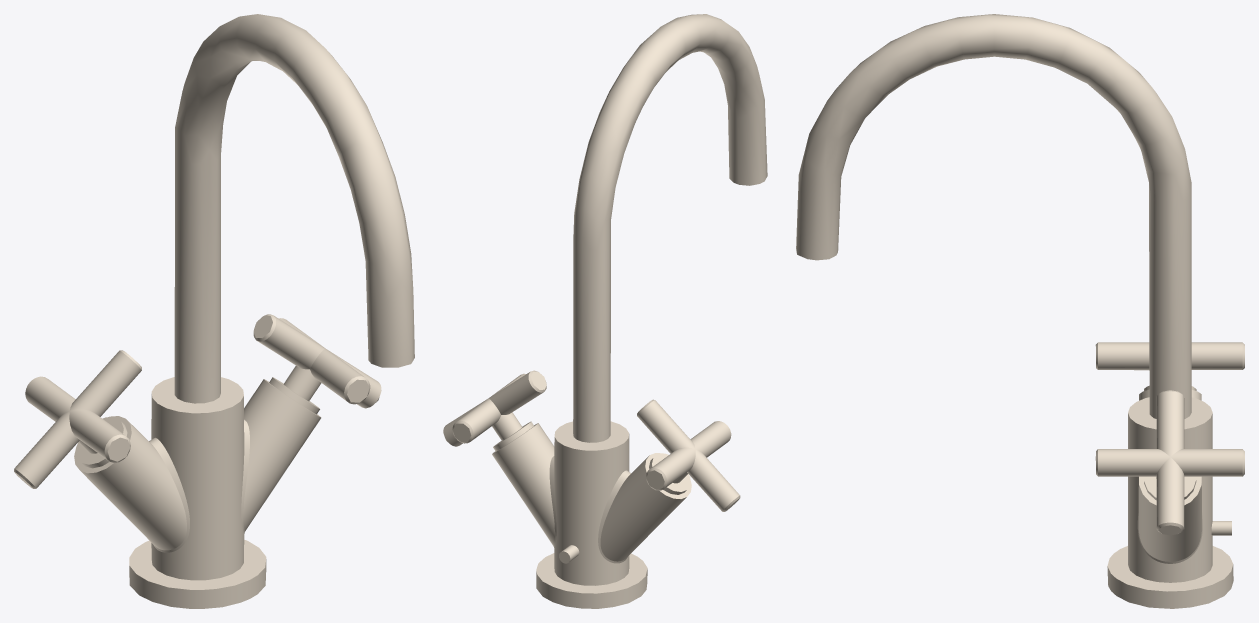
The picture shows the model from 3 angles, left to right: view 1: azimuth 30°, elevation 25°; view 2: azimuth 150°, elevation 25°; view 3: azimuth 270°, elevation 25°; orthographic projection. The views are drawn at different scales.
Parts seen in each view (by area): view 1: L_85eb14ae_3e29_46f2_87a0_adb121c5a3f2_I3, L_d3dcbb2b_4c44_437a_949d_012641e3e39b_I7, L_371058ef_0f02_43a9_b4b8_7bc3ba85c9c8_I1, L_aebabbb1_322c_48e3_8798_877ce0681c3e_I4, L_d9a1821b_6350_4af8_81e9_f33a4fe3cdb1_I8, L_b1cc2468_1b43_49ec_a76c_5935a66f385f_I6; view 2: L_85eb14ae_3e29_46f2_87a0_adb121c5a3f2_I3, L_d3dcbb2b_4c44_437a_949d_012641e3e39b_I7, L_371058ef_0f02_43a9_b4b8_7bc3ba85c9c8_I1, L_aebabbb1_322c_48e3_8798_877ce0681c3e_I4, L_d9a1821b_6350_4af8_81e9_f33a4fe3cdb1_I8, L_b1cc2468_1b43_49ec_a76c_5935a66f385f_I6; view 3: L_85eb14ae_3e29_46f2_87a0_adb121c5a3f2_I3, L_d3dcbb2b_4c44_437a_949d_012641e3e39b_I7, L_aebabbb1_322c_48e3_8798_877ce0681c3e_I4, L_d9a1821b_6350_4af8_81e9_f33a4fe3cdb1_I8, L_371058ef_0f02_43a9_b4b8_7bc3ba85c9c8_I1.
Part boxes in pixels (x1,y1,x2,y2): L_85eb14ae_3e29_46f2_87a0_adb121c5a3f2_I3: (174,14,414,403); L_d3dcbb2b_4c44_437a_949d_012641e3e39b_I7: (74,377,321,580); L_371058ef_0f02_43a9_b4b8_7bc3ba85c9c8_I1: (14,350,141,488); L_aebabbb1_322c_48e3_8798_877ce0681c3e_I4: (253,314,381,408); L_d9a1821b_6350_4af8_81e9_f33a4fe3cdb1_I8: (129,540,266,608); L_b1cc2468_1b43_49ec_a76c_5935a66f385f_I6: (76,417,127,468); L_85eb14ae_3e29_46f2_87a0_adb121c5a3f2_I3: (573,14,767,442); L_d3dcbb2b_4c44_437a_949d_012641e3e39b_I7: (492,421,691,585); L_371058ef_0f02_43a9_b4b8_7bc3ba85c9c8_I1: (637,399,740,511); L_aebabbb1_322c_48e3_8798_877ce0681c3e_I4: (443,370,546,446); L_d9a1821b_6350_4af8_81e9_f33a4fe3cdb1_I8: (536,553,647,608); L_b1cc2468_1b43_49ec_a76c_5935a66f385f_I6: (649,453,690,494); L_85eb14ae_3e29_46f2_87a0_adb121c5a3f2_I3: (796,14,1191,418); L_d3dcbb2b_4c44_437a_949d_012641e3e39b_I7: (1128,389,1212,582); L_aebabbb1_322c_48e3_8798_877ce0681c3e_I4: (1095,390,1244,535); L_d9a1821b_6350_4af8_81e9_f33a4fe3cdb1_I8: (1107,546,1233,608); L_371058ef_0f02_43a9_b4b8_7bc3ba85c9c8_I1: (1095,342,1244,370).
Bounding box in the file's own units: 0.1794 × 0.2936 × 0.2108.
